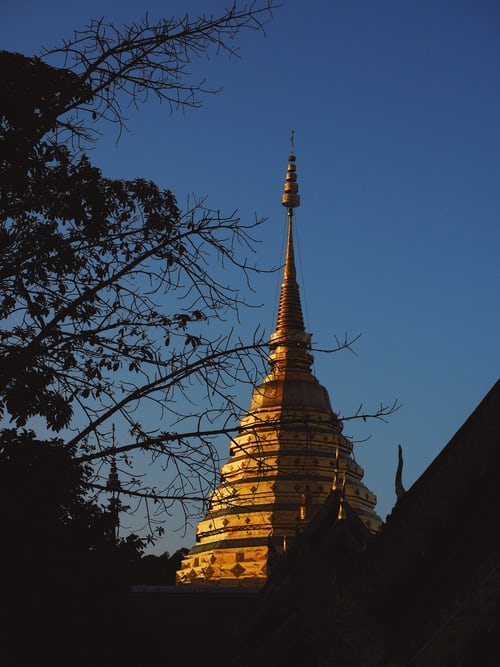Temple: (167, 146, 385, 580)
